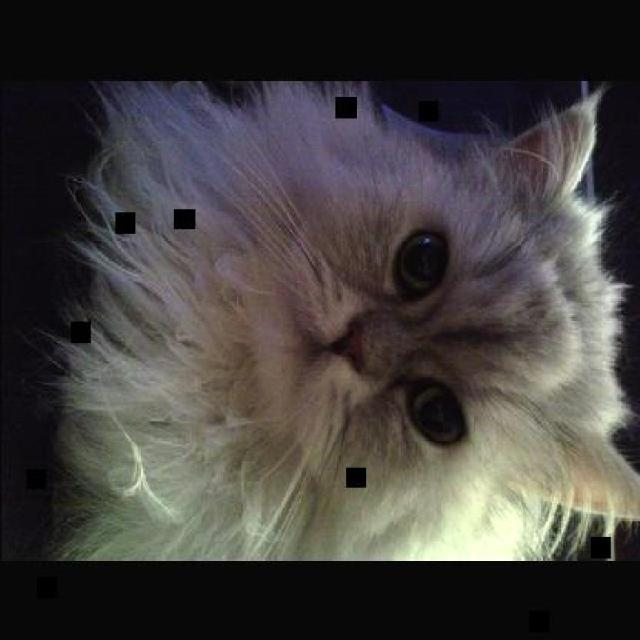unauthorized: (27, 75, 638, 560)
